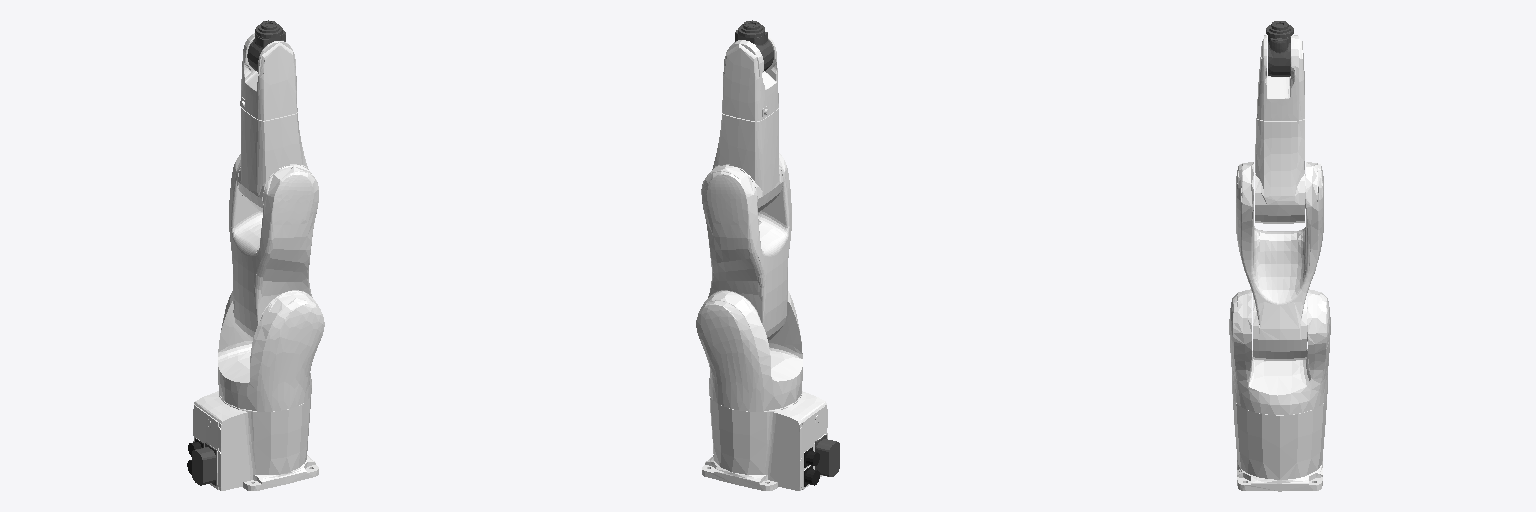
The robot description file, URDF, robot "r068":
<?xml version="1.0" encoding="UTF-8"?>
<robot name="r068">
	<gazebo>
		<plugin name="gazebo_ros_control" filename="libgazebo_ros_control.so">
			<robotNamespace>/r068</robotNamespace>
		</plugin>
	</gazebo>
	<link name="world"/>
	<joint name="joint_w" type="fixed">
		<parent link="world"/>
		<child link="base_link"/>
	</joint>
	<link name="base_link">
		<visual>
			<origin rpy="0 0 0" xyz="0 0 0"/>
			<geometry>
				<mesh filename="package://r068_description/base_link.dae" scale="1 1 1"/>
			</geometry>
		</visual>
		<collision>
			<origin rpy="0 0 0" xyz="0 0 0"/>
			<geometry>
				<mesh filename="package://r068_description/base_link.dae" scale="1 1 1"/>
			</geometry>
		</collision>
		<inertial>
			<mass value="1"/>
			<origin rpy="0.000000 0.000000 0.000000" xyz="0.000000 0.000000 0.000000"/>
			<inertia ixx="1" ixy="0" ixz="0" iyy="1" iyz="0" izz="1"/>
		</inertial>
	</link>
	<link name="J1">
		<visual>
			<origin rpy="0 0 0" xyz="0 0 0"/>
			<geometry>
				<mesh filename="package://r068_description/J1.dae" scale="1 1 1"/>
			</geometry>
		</visual>
		<collision>
			<origin rpy="0 0 0" xyz="0 0 0"/>
			<geometry>
				<mesh filename="package://r068_description/J1.dae" scale="1 1 1"/>
			</geometry>
		</collision>
		<inertial>
			<mass value="1"/>
			<origin rpy="0.000000 0.000000 0.000000" xyz="0.000000 0.000000 0.000000"/>
			<inertia ixx="1" ixy="0" ixz="0" iyy="1" iyz="0" izz="1"/>
		</inertial>
	</link>
	<joint name="joint_1" type="revolute">
		<parent link="base_link"/>
		<child link="J1"/>
		<origin rpy="0.000000 0.000000 0.000000" xyz="0.000000 0.000000 0.197500"/>
		<axis xyz="-0.000000 -0.000000 1.000000"/>
		<limit effort="1" lower="-2.96705972839036" upper="2.96705972839036" velocity="1"/>
		<dynamics damping="0" friction="0"/>
	</joint>
	<transmission name="trans_1">
		<type>transmission_interface/SimpleTransmission</type>
		<joint name="joint_1">
			<hardwareInterface>hardware_interface/PositionJointInterface</hardwareInterface>
		</joint>
		<actuator name="motor_1">
			<hardwareInterface>hardware_interface/PositionJointInterface</hardwareInterface>
			<mechanicalReduction>1</mechanicalReduction>
		</actuator>
	</transmission>
	<link name="J2">
		<visual>
			<origin rpy="0 0 0" xyz="0 0 0"/>
			<geometry>
				<mesh filename="package://r068_description/J2.dae" scale="1 1 1"/>
			</geometry>
		</visual>
		<collision>
			<origin rpy="0 0 0" xyz="0 0 0"/>
			<geometry>
				<mesh filename="package://r068_description/J2.dae" scale="1 1 1"/>
			</geometry>
		</collision>
		<inertial>
			<mass value="1"/>
			<origin rpy="0.000000 0.000000 0.000000" xyz="0.000000 0.000000 0.000000"/>
			<inertia ixx="1" ixy="0" ixz="0" iyy="1" iyz="0" izz="1"/>
		</inertial>
	</link>
	<joint name="joint_2" type="revolute">
		<parent link="J1"/>
		<child link="J2"/>
		<origin rpy="0.000000 0.000000 0.000000" xyz="0.030000 0.000000 0.197500"/>
		<axis xyz="-0.000000 1.000000 -0.000000"/>
		<limit effort="1" lower="-1.74532925199433" upper="2.35619449019234" velocity="1"/>
		<dynamics damping="0" friction="0"/>
	</joint>
	<transmission name="trans_2">
		<type>transmission_interface/SimpleTransmission</type>
		<joint name="joint_2">
			<hardwareInterface>hardware_interface/PositionJointInterface</hardwareInterface>
		</joint>
		<actuator name="motor_2">
			<hardwareInterface>hardware_interface/PositionJointInterface</hardwareInterface>
			<mechanicalReduction>1</mechanicalReduction>
		</actuator>
	</transmission>
	<link name="J3">
		<visual>
			<origin rpy="0 0 0" xyz="0 0 0"/>
			<geometry>
				<mesh filename="package://r068_description/J3.dae" scale="1 1 1"/>
			</geometry>
		</visual>
		<collision>
			<origin rpy="0 0 0" xyz="0 0 0"/>
			<geometry>
				<mesh filename="package://r068_description/J3.dae" scale="1 1 1"/>
			</geometry>
		</collision>
		<inertial>
			<mass value="1"/>
			<origin rpy="0.000000 0.000000 0.000000" xyz="0.000000 0.000000 0.000000"/>
			<inertia ixx="1" ixy="0" ixz="0" iyy="1" iyz="0" izz="1"/>
		</inertial>
	</link>
	<joint name="joint_3" type="revolute">
		<parent link="J2"/>
		<child link="J3"/>
		<origin rpy="0.000000 0.000000 0.000000" xyz="0.000000 0.000000 0.340000"/>
		<axis xyz="-0.000000 1.000000 -0.000000"/>
		<limit effort="1" lower="-2.0943951023932" upper="2.67035375555132" velocity="1"/>
		<dynamics damping="0" friction="0"/>
	</joint>
	<transmission name="trans_3">
		<type>transmission_interface/SimpleTransmission</type>
		<joint name="joint_3">
			<hardwareInterface>hardware_interface/PositionJointInterface</hardwareInterface>
		</joint>
		<actuator name="motor_3">
			<hardwareInterface>hardware_interface/PositionJointInterface</hardwareInterface>
			<mechanicalReduction>1</mechanicalReduction>
		</actuator>
	</transmission>
	<link name="J4">
		<visual>
			<origin rpy="0 0 0" xyz="0 0 0"/>
			<geometry>
				<mesh filename="package://r068_description/J4.dae" scale="1 1 1"/>
			</geometry>
		</visual>
		<collision>
			<origin rpy="0 0 0" xyz="0 0 0"/>
			<geometry>
				<mesh filename="package://r068_description/J4.dae" scale="1 1 1"/>
			</geometry>
		</collision>
		<inertial>
			<mass value="1"/>
			<origin rpy="0.000000 0.000000 0.000000" xyz="0.000000 0.000000 0.000000"/>
			<inertia ixx="1" ixy="0" ixz="0" iyy="1" iyz="0" izz="1"/>
		</inertial>
	</link>
	<joint name="joint_4" type="revolute">
		<parent link="J3"/>
		<child link="J4"/>
		<origin rpy="0.000000 0.000000 0.000000" xyz="-0.020000 0.000000 0.197000"/>
		<axis xyz="-0.000000 -0.000000 1.000000"/>
		<limit effort="1" lower="-4.71238898038469" upper="4.71238898038469" velocity="1"/>
		<dynamics damping="0" friction="0"/>
	</joint>
	<transmission name="trans_4">
		<type>transmission_interface/SimpleTransmission</type>
		<joint name="joint_4">
			<hardwareInterface>hardware_interface/PositionJointInterface</hardwareInterface>
		</joint>
		<actuator name="motor_4">
			<hardwareInterface>hardware_interface/PositionJointInterface</hardwareInterface>
			<mechanicalReduction>1</mechanicalReduction>
		</actuator>
	</transmission>
	<link name="J5">
		<visual>
			<origin rpy="0 0 0" xyz="0 0 0"/>
			<geometry>
				<mesh filename="package://r068_description/J5.dae" scale="1 1 1"/>
			</geometry>
		</visual>
		<collision>
			<origin rpy="0 0 0" xyz="0 0 0"/>
			<geometry>
				<mesh filename="package://r068_description/J5.dae" scale="1 1 1"/>
			</geometry>
		</collision>
		<inertial>
			<mass value="1"/>
			<origin rpy="0.000000 0.000000 0.000000" xyz="0.000000 0.000000 0.000000"/>
			<inertia ixx="1" ixy="0" ixz="0" iyy="1" iyz="0" izz="1"/>
		</inertial>
	</link>
	<joint name="joint_5" type="revolute">
		<parent link="J4"/>
		<child link="J5"/>
		<origin rpy="0.000000 0.000000 0.000000" xyz="0.000000 0.000000 0.143000"/>
		<axis xyz="-0.000000 1.000000 -0.000000"/>
		<limit effort="1" lower="-2.0943951023932" upper="2.0943951023932" velocity="1"/>
		<dynamics damping="0" friction="0"/>
	</joint>
	<transmission name="trans_5">
		<type>transmission_interface/SimpleTransmission</type>
		<joint name="joint_5">
			<hardwareInterface>hardware_interface/PositionJointInterface</hardwareInterface>
		</joint>
		<actuator name="motor_5">
			<hardwareInterface>hardware_interface/PositionJointInterface</hardwareInterface>
			<mechanicalReduction>1</mechanicalReduction>
		</actuator>
	</transmission>
	<link name="J6">
		<visual>
			<origin rpy="0 0 0" xyz="0 0 0"/>
			<geometry>
				<mesh filename="package://r068_description/J6.dae" scale="1 1 1"/>
			</geometry>
		</visual>
		<collision>
			<origin rpy="0 0 0" xyz="0 0 0"/>
			<geometry>
				<mesh filename="package://r068_description/J6.dae" scale="1 1 1"/>
			</geometry>
		</collision>
		<inertial>
			<mass value="1"/>
			<origin rpy="0.000000 0.000000 0.000000" xyz="0.000000 0.000000 0.000000"/>
			<inertia ixx="1" ixy="0" ixz="0" iyy="1" iyz="0" izz="1"/>
		</inertial>
	</link>
	<joint name="joint_6" type="revolute">
		<parent link="J5"/>
		<child link="J6"/>
		<origin rpy="0.000000 0.000000 0.000000" xyz="0.000000 0.000000 0.080000"/>
		<axis xyz="-0.000000 -0.000000 1.000000"/>
		<limit effort="1" lower="-6.28318530717959" upper="6.28318530717959" velocity="1"/>
		<dynamics damping="0" friction="0"/>
	</joint>
	<transmission name="trans_6">
		<type>transmission_interface/SimpleTransmission</type>
		<joint name="joint_6">
			<hardwareInterface>hardware_interface/PositionJointInterface</hardwareInterface>
		</joint>
		<actuator name="motor_6">
			<hardwareInterface>hardware_interface/PositionJointInterface</hardwareInterface>
			<mechanicalReduction>1</mechanicalReduction>
		</actuator>
	</transmission>
</robot>

--- What the picture shows (computed from the rendered views, not written in the file) ---
3 views of the same robot in one strip: view 1: azimuth 30°, elevation 25°; view 2: azimuth 150°, elevation 25°; view 3: azimuth 270°, elevation 25° (orthographic).
Model r068 with 8 links and 7 joints (6 revolute, 1 fixed), rooted at world, posed all joints at 0.
Links seen in each view (by area): view 1: J2, base_link, J1, J3, J4, J5; view 2: J2, base_link, J1, J3, J4, J5; view 3: J2, J1, base_link, J3, J4, J5.
Link boxes in pixels (x1,y1,x2,y2): J2: (229,154,318,340); base_link: (187,391,318,490); J1: (218,291,324,411); J3: (238,107,308,211); J4: (240,33,297,120); J5: (247,24,285,71); J2: (701,153,791,340); base_link: (702,391,839,490); J1: (696,291,802,411); J3: (712,108,782,211); J4: (722,36,778,121); J5: (735,24,773,70); J2: (1236,162,1323,360); J1: (1229,289,1330,414); base_link: (1233,399,1326,491); J3: (1255,118,1305,223); J4: (1257,35,1304,120); J5: (1266,25,1293,76).
Bounding box of the posed robot: 0.3155 × 0.235 × 1.16 m (x, y, z).
Meshes: 7 distinct files referenced, 7 mesh visuals loaded (7 Collada DAE).